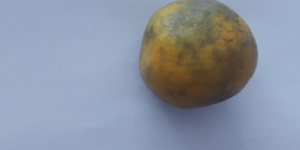BAD: (139, 1, 262, 111)
